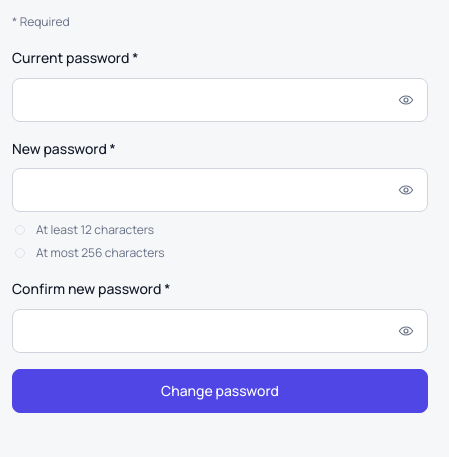
Test: ChangePasswordForm › will not submit without the current password
The image size is (449, 457).
Type "a-perfectly-fine-passphrase" into the password field labelled "New password *". click: (220, 190)
box: [12,168,428,212]
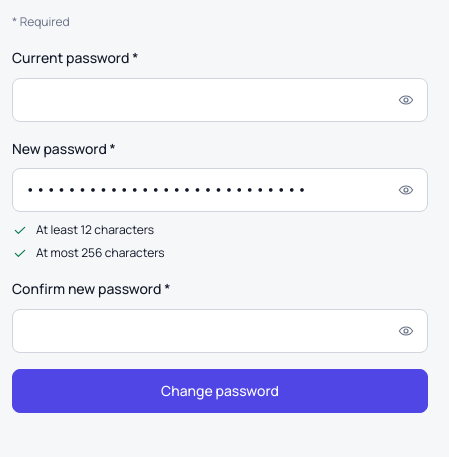
Type "a-perfectly-fine-passphrase" into the password field labelled "Confirm new password *". click: (220, 331)
box: [12,309,428,353]
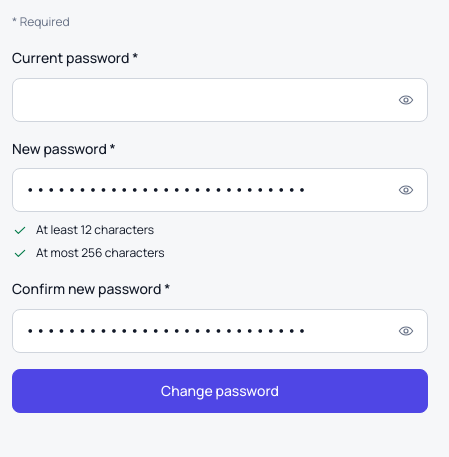
Click the button "Change password". click: (220, 391)
box: [12,369,428,413]
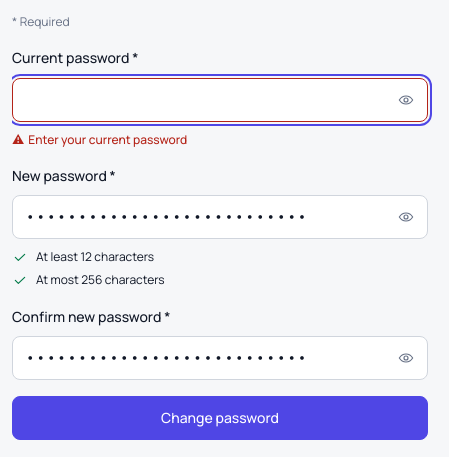
Expected: the text "Enter your current password" is shown, [28,131,187,148]
